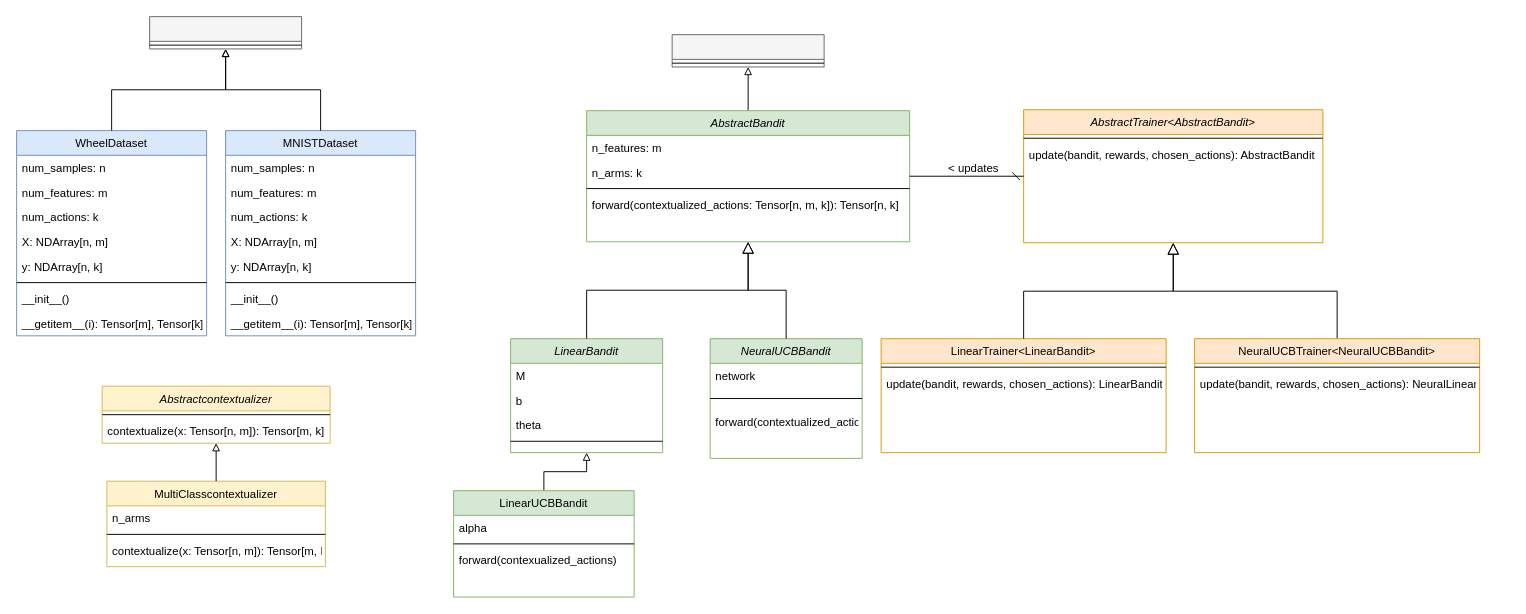
The diagram is 1526 pixels wide and 614 high, and some of its shapes have lost their labels. Each missing label, with the centre of its shape:
"torch.nn.Dataset" goes at point (225, 32).
"torch.nn.Module" goes at point (747, 50).
